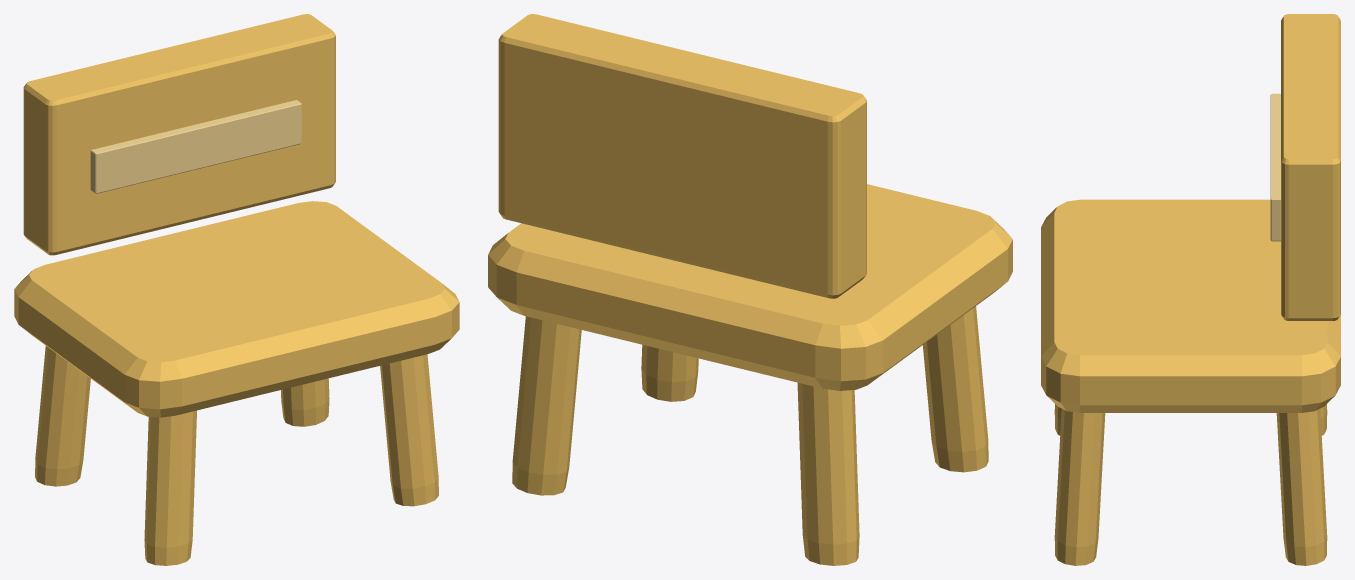
Rendered from old_furniture.glb.
3 renders of one model, left to right at view 1: azimuth 30°, elevation 25°; view 2: azimuth 150°, elevation 25°; view 3: azimuth 270°, elevation 25°, orthographic. The views are drawn at different scales.
Parts seen in each view (by area): view 1: model; view 2: model; view 3: model.
Part boxes in pixels (box(x1,y1,x2,y2)): model: box(14, 14, 459, 565); model: box(488, 14, 1012, 565); model: box(1041, 14, 1340, 565).
Bounding box in the file's own units: 0.8 × 0.9 × 0.6.
